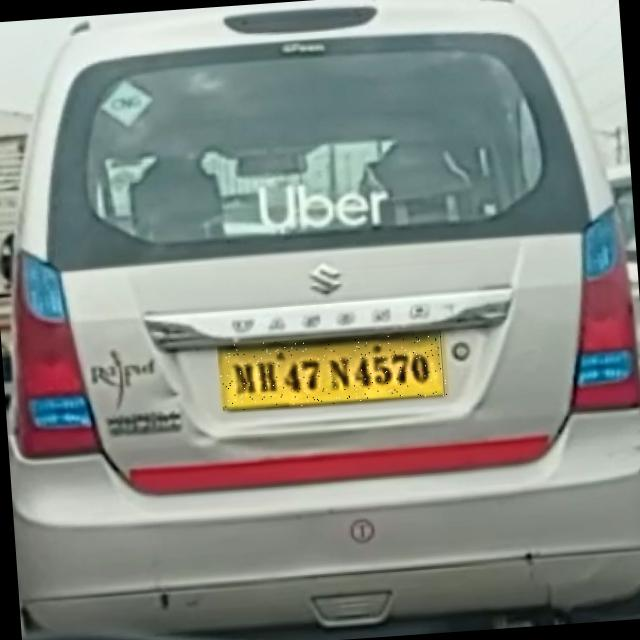Plate: (218, 331, 448, 413)
